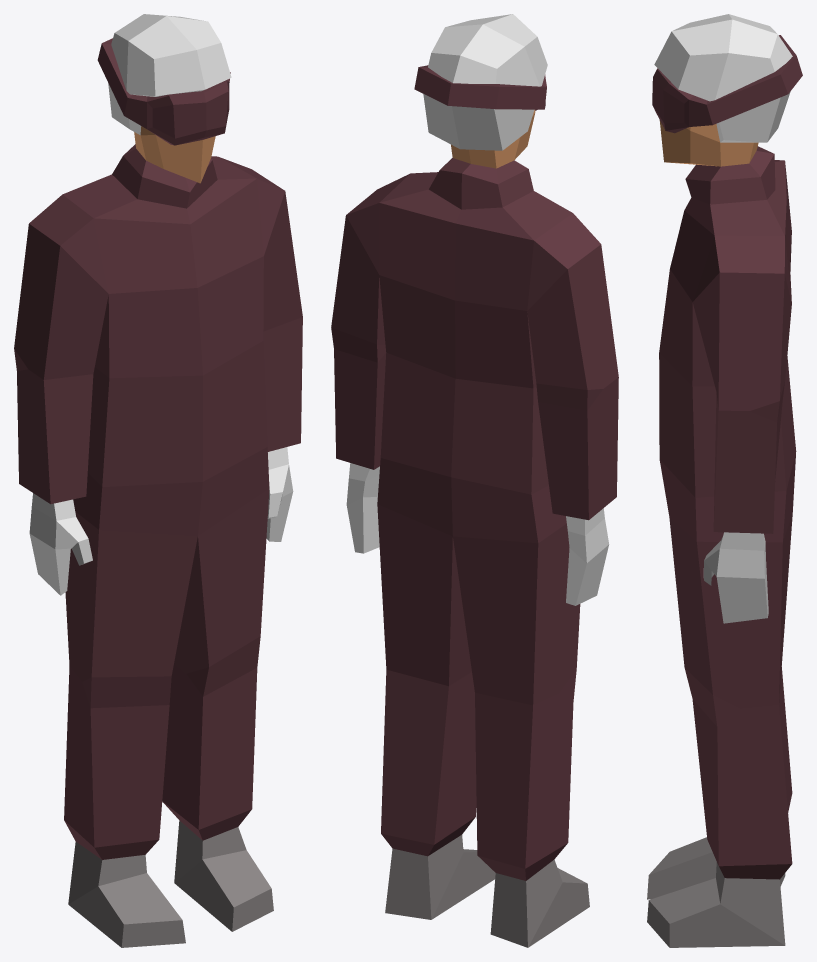
Rendered from man-ski.fbx.
3 views of the same model, side by side, from view 1: azimuth 30°, elevation 25°; view 2: azimuth 150°, elevation 25°; view 3: azimuth 270°, elevation 25° (orthographic).
Visible parts, largest first — view 1: man-ski; view 2: man-ski; view 3: man-ski.
Boxes of the visible parts, x1,y1,x2,y2 form: man-ski: [14, 14, 302, 947]; man-ski: [331, 14, 618, 947]; man-ski: [647, 14, 802, 947].
Size of the model in its own units: 0.5631 by 1.85 by 0.2931.
